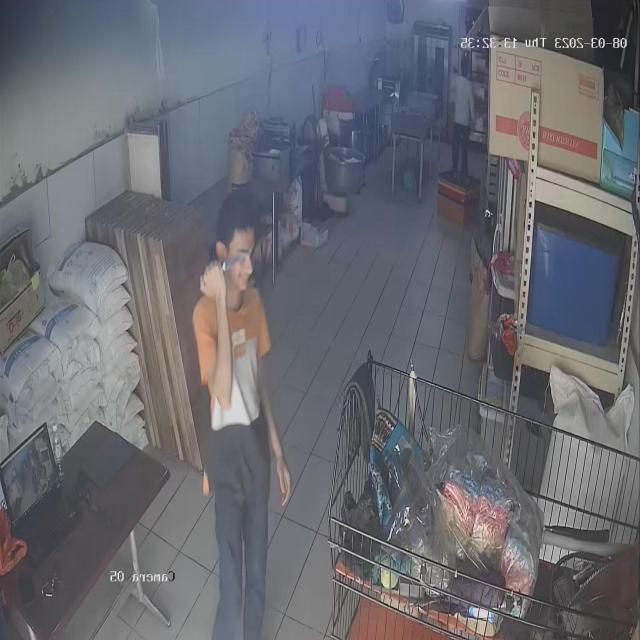Knife: (206, 238, 247, 280)
